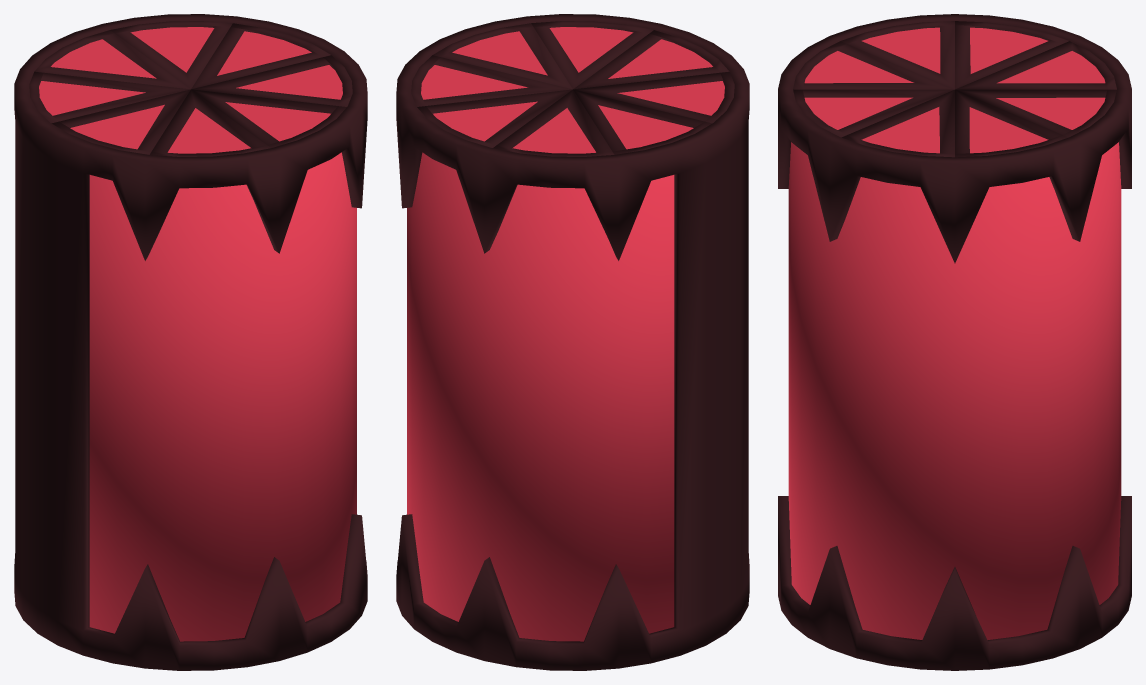
The model's file is TuboMalvada.fbx.
The picture shows the model from 3 angles, left to right: view 1: azimuth 30°, elevation 25°; view 2: azimuth 150°, elevation 25°; view 3: azimuth 270°, elevation 25°; orthographic projection.
Visible parts, largest first — view 1: Cilindro, Cilindro.002, Cilindro.003; view 2: Cilindro, Cilindro.002, Cilindro.003; view 3: Cilindro, Cilindro.002, Cilindro.003.
Part boxes in pixels (x1,y1,x2,y2): Cilindro: (89, 152, 356, 641); Cilindro.002: (14, 14, 367, 670); Cilindro.003: (29, 21, 352, 156); Cilindro: (407, 152, 674, 641); Cilindro.002: (396, 14, 749, 670); Cilindro.003: (411, 21, 734, 156); Cilindro: (788, 142, 1121, 639); Cilindro.002: (778, 14, 1131, 670); Cilindro.003: (793, 21, 1116, 157).
Size of the model in its own units: 213 by 337 by 213.
